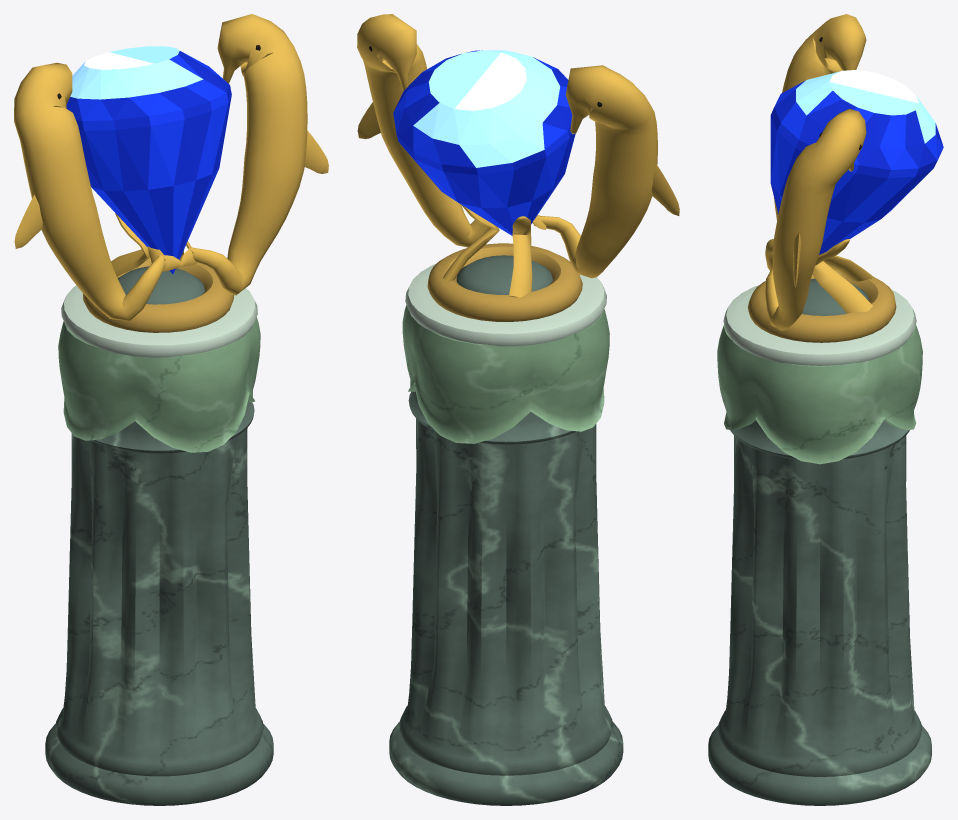
The model's file is VERMANA.glb.
3 views of the same model, side by side, from view 1: azimuth 30°, elevation 25°; view 2: azimuth 150°, elevation 25°; view 3: azimuth 270°, elevation 25° (orthographic). The views are drawn at different scales.
Parts seen in each view (by area): view 1: column; view 2: column; view 3: column.
Boxes of the visible parts, x1,y1,x2,y2 form: column: (14,14,328,805); column: (357,14,679,805); column: (708,14,943,805).
Bounding box in the file's own units: 3.8 × 8.19 × 2.51.
13 materials, 2 textured.
